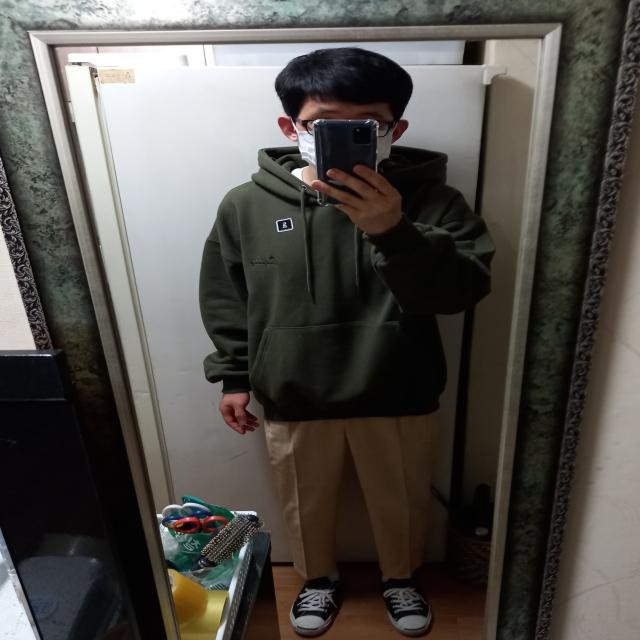hoodies: (195, 138, 490, 416)
slacks: (268, 403, 451, 578)
